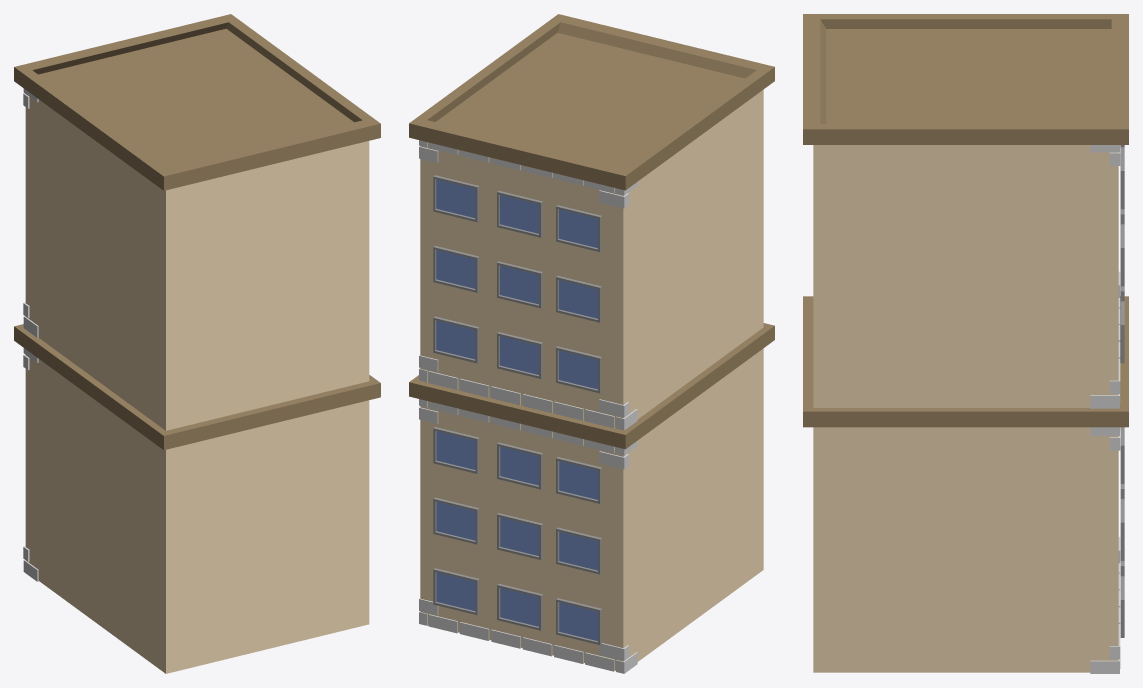
File: right building.fbx
3 renders of one model, left to right at view 1: azimuth 30°, elevation 25°; view 2: azimuth 150°, elevation 25°; view 3: azimuth 270°, elevation 25°, orthographic. The views are drawn at different scales.
Visible parts, largest first — view 1: Cube.311; view 2: Cube.311, Cube.312, Cube.313; view 3: Cube.311, Cube.312, Cube.313.
Boxes of the visible parts, bbox=[...] form: Cube.311: bbox=[14, 14, 380, 673]; Cube.311: bbox=[409, 14, 774, 670]; Cube.312: bbox=[433, 175, 601, 393]; Cube.313: bbox=[433, 427, 601, 644]; Cube.311: bbox=[803, 14, 1128, 672]; Cube.312: bbox=[1120, 145, 1124, 363]; Cube.313: bbox=[1120, 427, 1124, 637].
Size of the model in its own units: 26.5 by 58.72 by 31.67.
